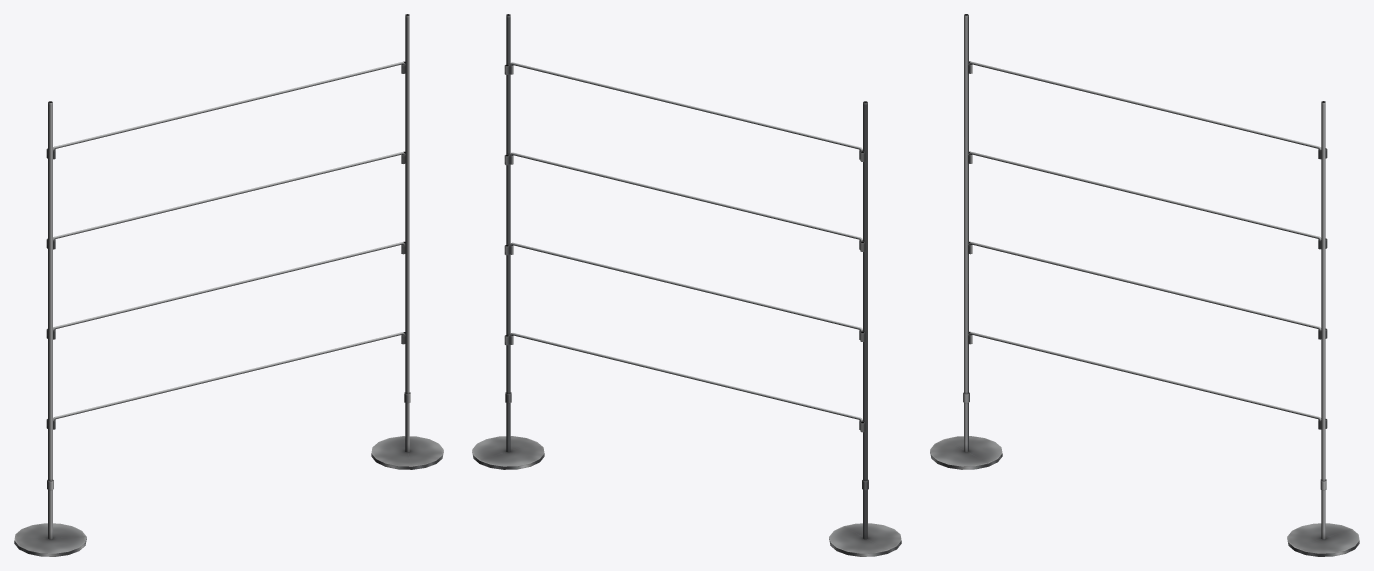
Rendered from jsf_DisplayStand_01.fbx.
The picture shows the model from 3 angles, left to right: view 1: azimuth 30°, elevation 25°; view 2: azimuth 150°, elevation 25°; view 3: azimuth 330°, elevation 25°; orthographic projection.
Parts seen in each view (by area): view 1: jsf_DisplayStand_01; view 2: jsf_DisplayStand_01; view 3: jsf_DisplayStand_01.
Boxes of the visible parts, x1,y1,x2,y2 form: jsf_DisplayStand_01: (14, 14, 443, 556); jsf_DisplayStand_01: (472, 14, 901, 556); jsf_DisplayStand_01: (930, 14, 1359, 556).
Size of the model in its own units: 200 by 200 by 30.
